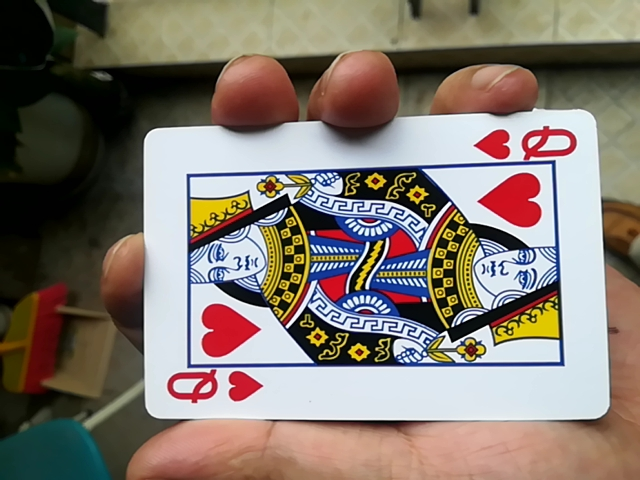hx q: (131, 109, 609, 435)
